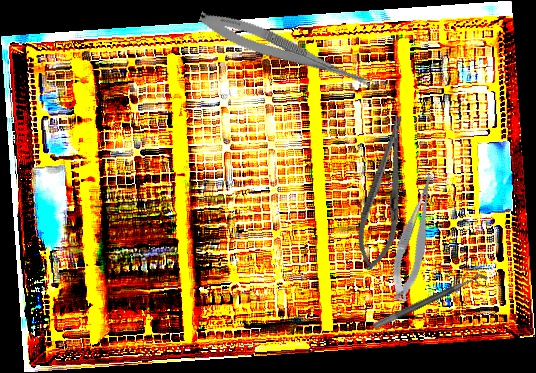Fixation Ring: (372, 270, 492, 339)
Micro Scissor: (195, 5, 382, 96), (380, 172, 451, 304)
Needle Holder: (349, 112, 420, 274)
